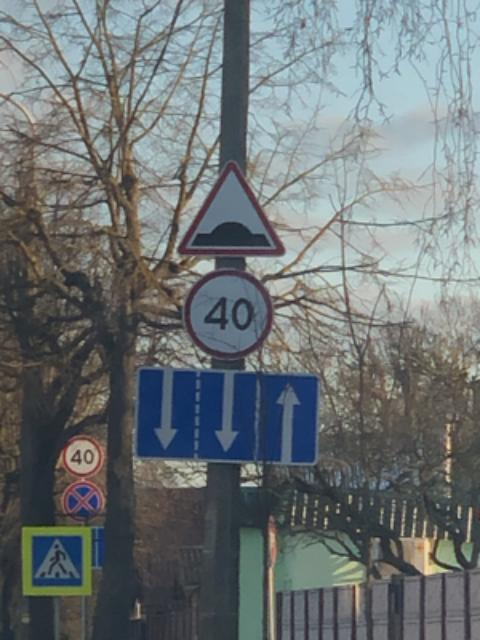crosswalk-sign: (27, 528, 89, 598)
